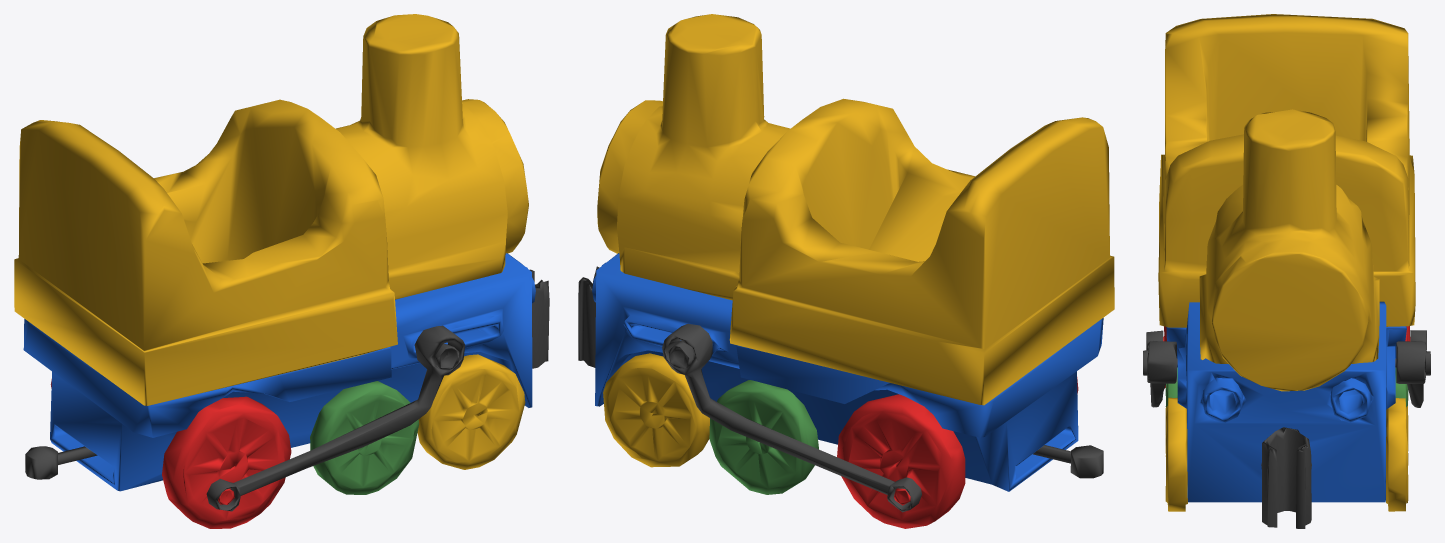
Rendered from train_vagone1_LOD02.fbx.
3 renders of one model, left to right at view 1: azimuth 30°, elevation 25°; view 2: azimuth 150°, elevation 25°; view 3: azimuth 270°, elevation 25°, orthographic. The views are drawn at different scales.
Parts seen in each view (by area): view 1: train engine; view 2: train engine; view 3: train engine.
Boxes of the visible parts, x1=… form: train engine: x1=14, y1=14, x2=549, y2=528; train engine: x1=578, y1=14, x2=1114, y2=528; train engine: x1=1143, y1=14, x2=1430, y2=528.
Bounding box in the file's own units: 249 × 182 × 125.
